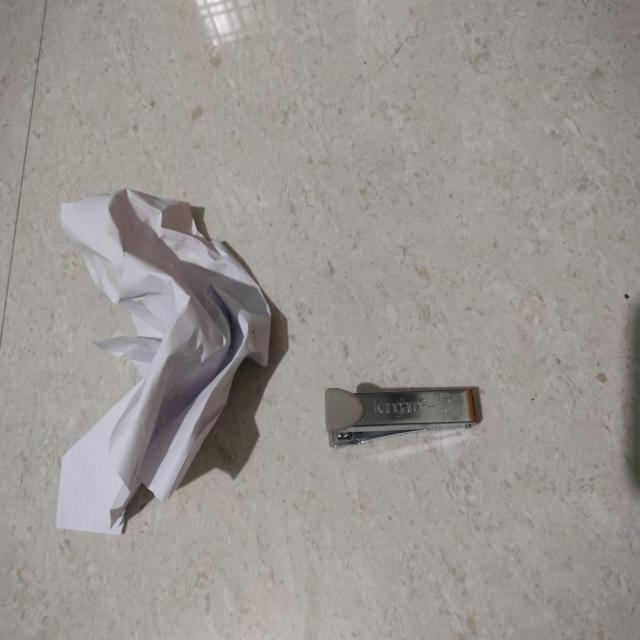dry: (31, 174, 283, 590), (309, 348, 503, 491)
